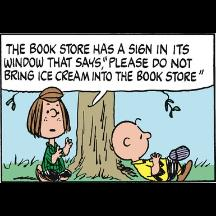charlie: (109, 119, 193, 184)
